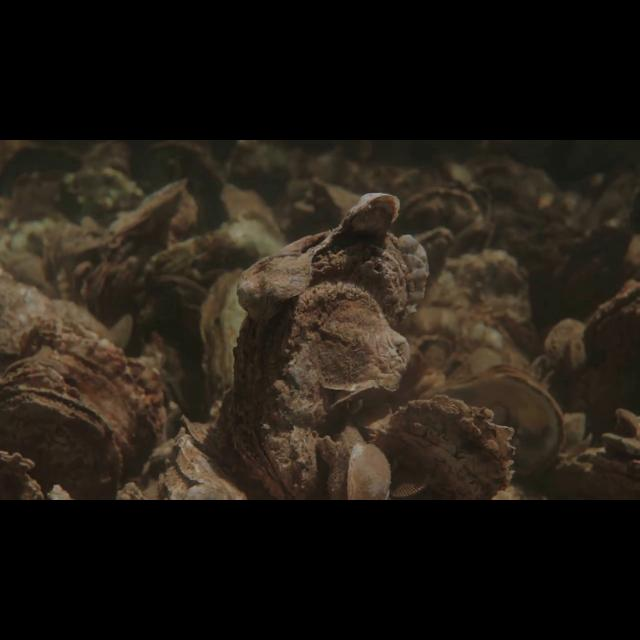Oyster-Closed: (221, 192, 432, 500), (0, 319, 170, 500), (426, 365, 570, 482), (374, 396, 518, 500), (0, 386, 126, 500), (162, 413, 276, 500), (325, 426, 394, 500)
